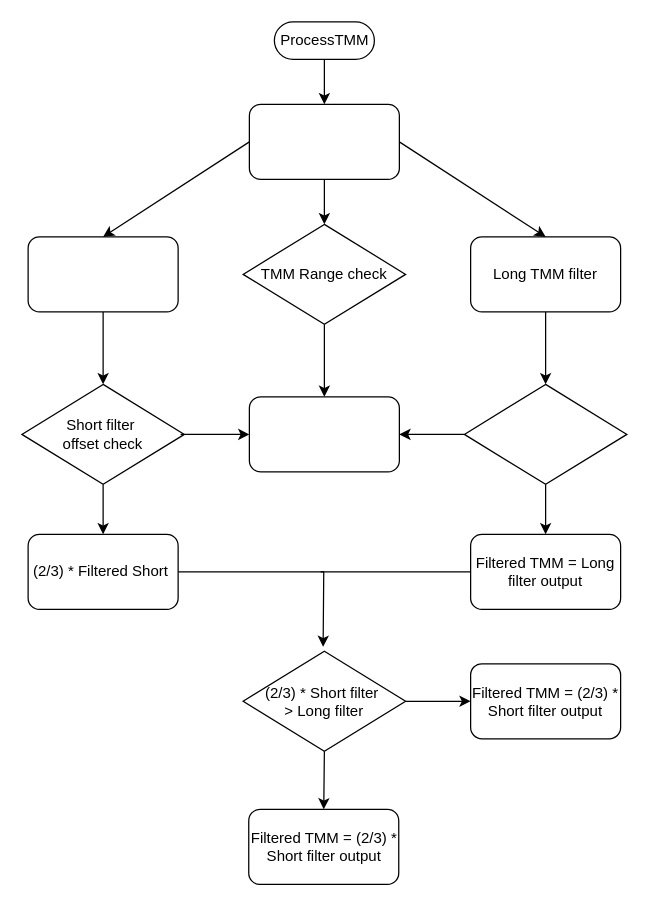
Some shapes in this 649 by 906 pixel diagram are drawn without their labels. Here are the shapes that lost their labels. From the top down, the box of each, then its label:
(248, 103, 399, 179): Read ADC
(27, 236, 178, 312): Short TMM filter
(248, 396, 399, 472): Reset filters
(463, 383, 627, 484): Long filter offset check
